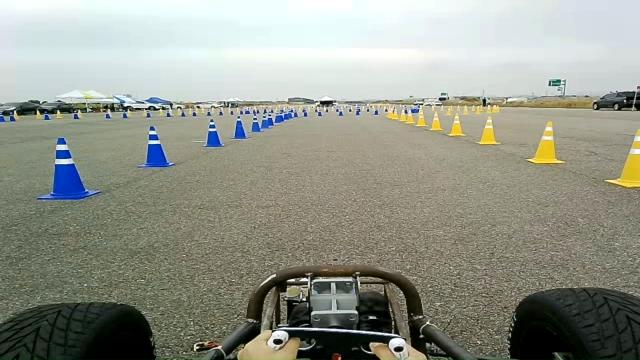blue cone: (36, 136, 102, 200), (136, 125, 176, 168), (202, 118, 224, 147), (230, 115, 248, 139), (250, 116, 262, 132)
yellow cone: (604, 128, 640, 188), (525, 121, 565, 164), (476, 115, 500, 145), (447, 113, 465, 136), (429, 112, 443, 130), (414, 110, 426, 127), (542, 121, 553, 138), (406, 112, 414, 124), (399, 110, 406, 121), (386, 111, 394, 119)
